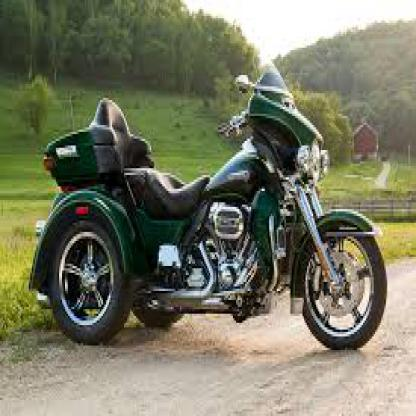Motorcycle: (28, 67, 390, 354)
